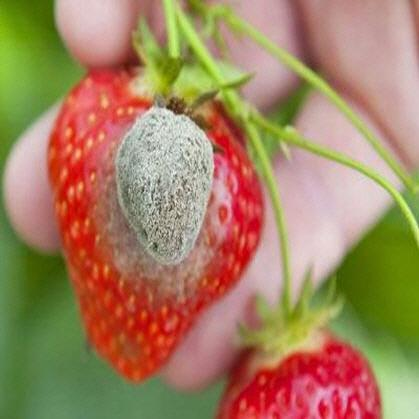Gray Mold: (87, 92, 234, 305)
